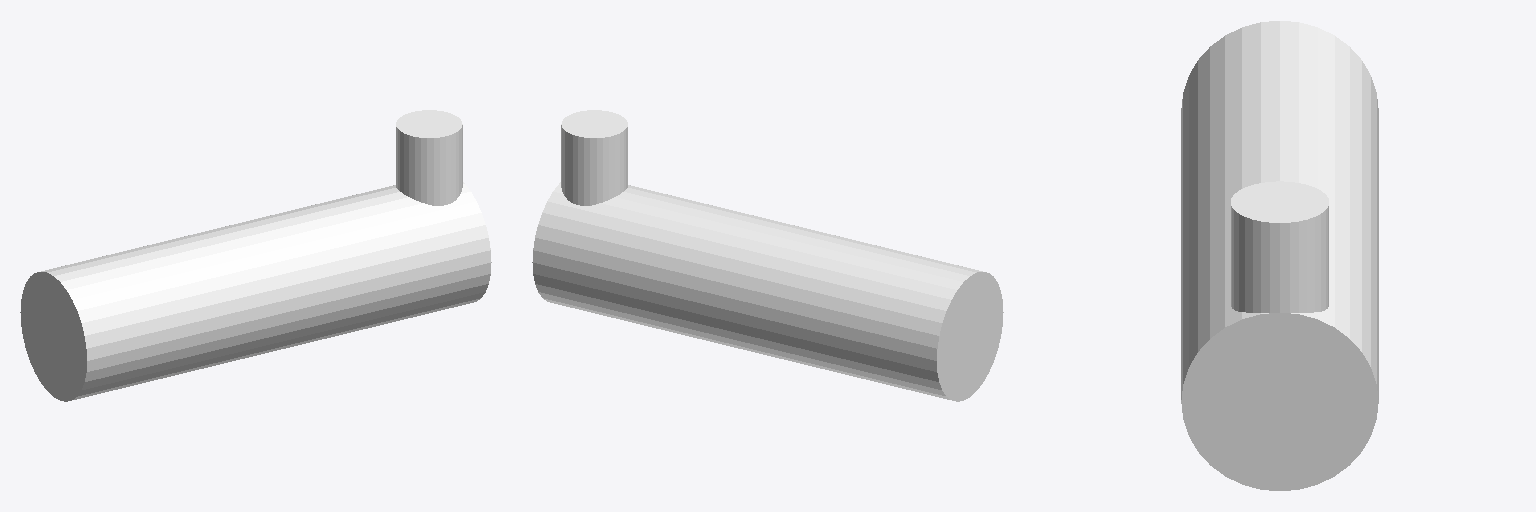
The robot description file, URDF, robot "rod":
<?xml version="1.0" ?>
<robot name="rod">

<link name="vertical">
    <inertial>
      <origin rpy="0 0 0" xyz="0 0 0"/>
      <mass value="0.01"/>
      <inertia ixx="0.0001" ixy="0" ixz="0" iyy="0.0001" iyz="0" izz="0.0001"/>
    </inertial>
    <visual>
      <origin rpy="0 0 0" xyz="0.030 0 0.01"/>
      <geometry>
        <cylinder length="0.02" radius="0.005"/>
      </geometry>
       <material name="white">
        <color rgba="1 1 1 1"/>
      </material>
    </visual>
    <collision>
      <origin rpy="0 0 0" xyz="0.030 0 0.01"/>
      <geometry>
       <cylinder length="0.02" radius="0.005"/>
      </geometry>
    </collision>
  </link>

  <joint name="vertical-to-horizonal" type="fixed">
    <parent link="horizontal"/>
    <child link="vertical"/>
    <origin xyz="0 0 0.0" rpy="0 0 0"/>
  </joint>

    <link name="horizontal">
    <inertial>
      <origin rpy="0 0 0" xyz="0 0 0"/>
      <mass value="0.01"/>
      <inertia ixx="0.0001" ixy="0" ixz="0" iyy="0.0001" iyz="0" izz="0.0001"/>
    </inertial>
    <visual>
      <origin rpy="0 1.57079 0" xyz="0 0 0"/>
      <geometry>
        <cylinder length="0.07" radius="0.01"/>
      </geometry>
       <material name="white">
        <color rgba="1 1 1 1"/>
      </material>
    </visual>
    <collision>
      <origin rpy="0 1.57079 0" xyz="0 0 0"/>
      <geometry>
       <cylinder length="0.07" radius="0.01"/>
      </geometry>
    </collision>
  </link>

</robot>

--- What the picture shows (computed from the rendered views, not written in the file) ---
3 views of the same robot in one strip: view 1: azimuth 30°, elevation 25°; view 2: azimuth 150°, elevation 25°; view 3: azimuth 270°, elevation 25° (orthographic).
Robot: rod — 2 links, 1 joints (1 fixed); root link horizontal; default pose: all joints at 0.
Visible links, largest first — view 1: horizontal, vertical; view 2: horizontal, vertical; view 3: horizontal, vertical.
Link boxes in pixels (x1,y1,x2,y2): horizontal: [20, 182, 491, 401]; vertical: [396, 110, 462, 205]; horizontal: [532, 182, 1003, 401]; vertical: [561, 110, 627, 205]; horizontal: [1181, 21, 1378, 490]; vertical: [1231, 181, 1328, 312].
Size in the robot's own frame: 0.07 by 0.02 by 0.03 metres.
Geometry: primitives only (box / cylinder / sphere), no mesh files.